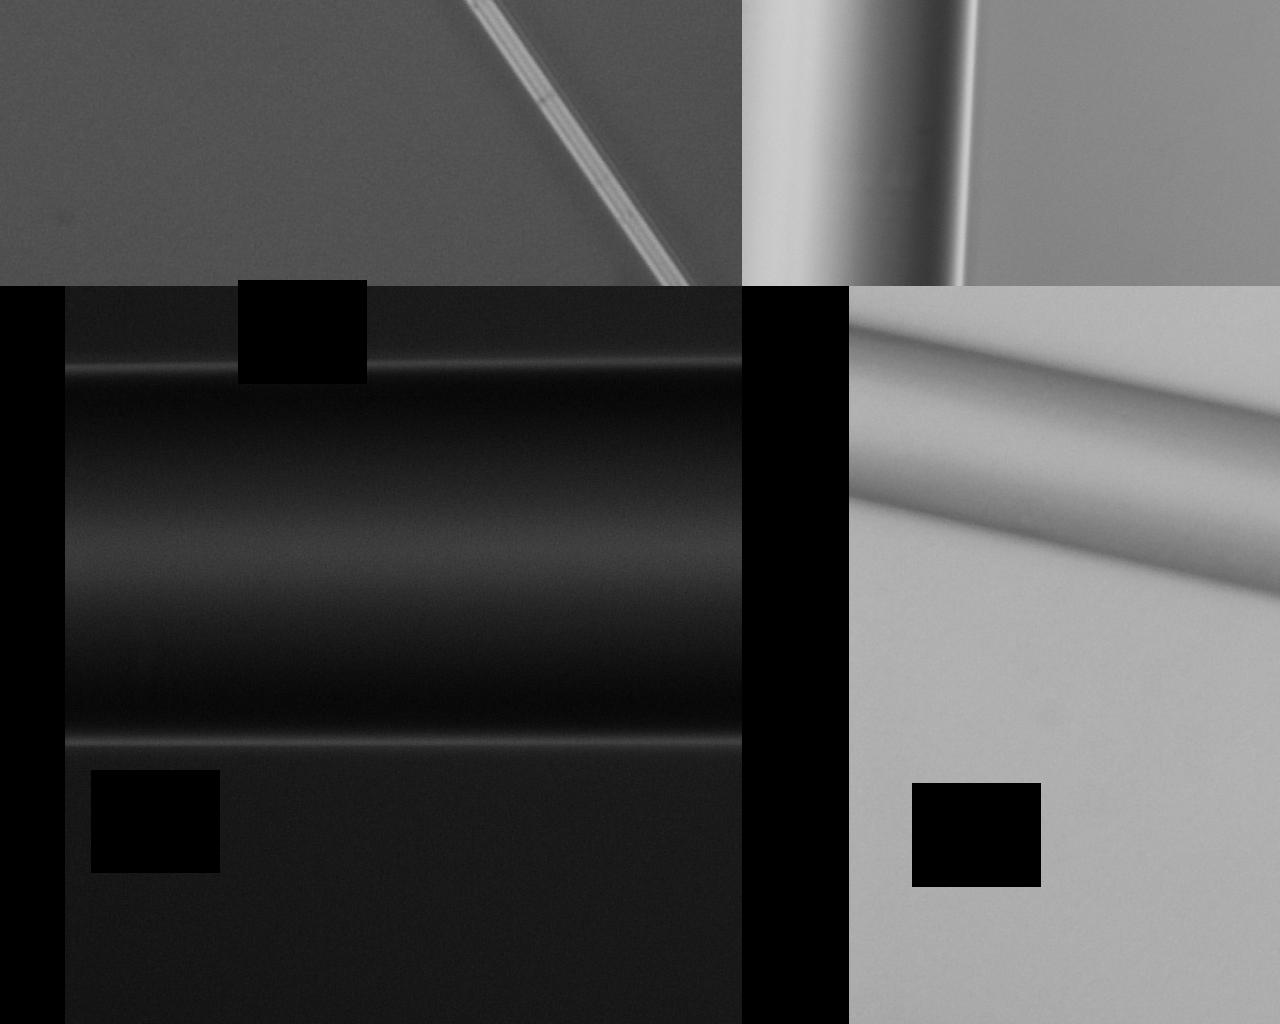fiber: (127, 344, 1151, 571)
